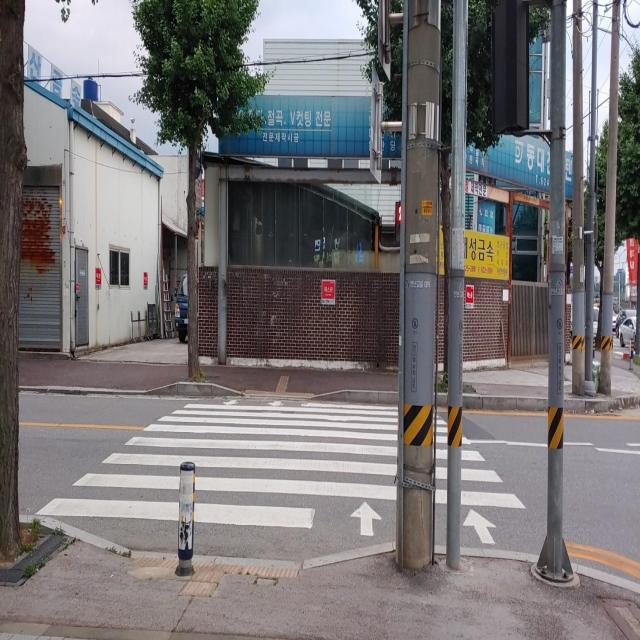빨간불: (394, 202, 402, 246)
횡단보도: (34, 397, 526, 548)
